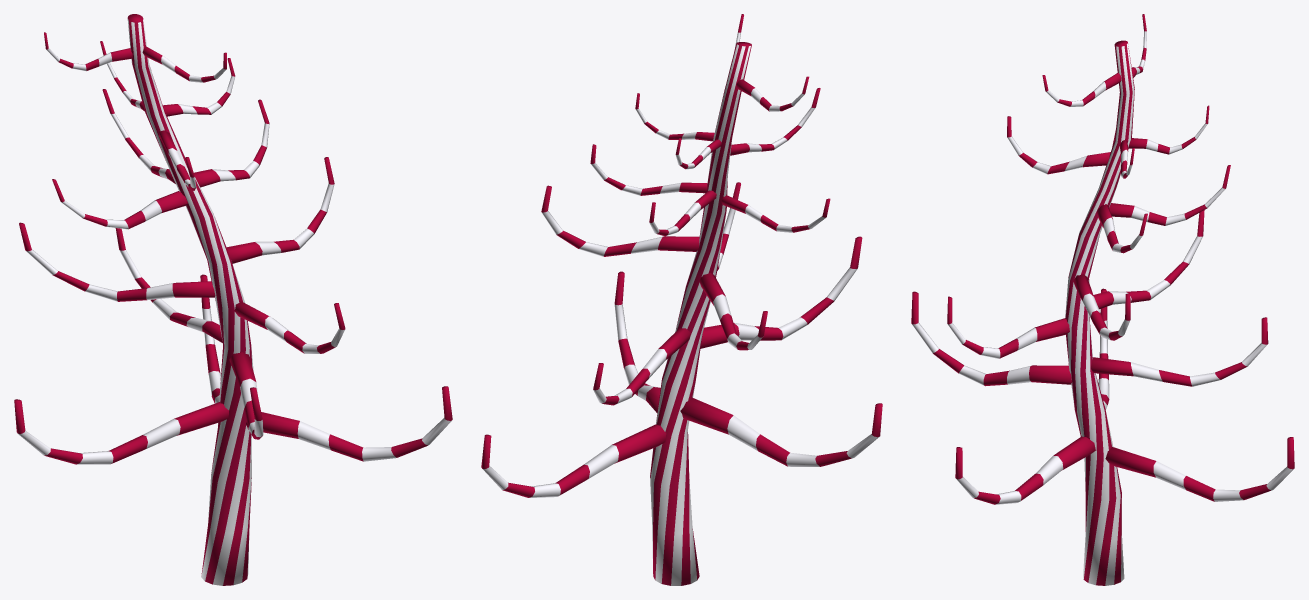
Rendered from cw_tree_4.fbx.
3 renders of one model, left to right at view 1: azimuth 30°, elevation 25°; view 2: azimuth 150°, elevation 25°; view 3: azimuth 270°, elevation 25°, orthographic. The views are drawn at different scales.
Visible parts, largest first — view 1: cw_t_4; view 2: cw_t_4; view 3: cw_t_4.
Boxes of the visible parts, <box> form: cw_t_4: <box>14,14,452,585</box>; cw_t_4: <box>481,14,882,585</box>; cw_t_4: <box>911,14,1294,585</box>.
Size of the model in its own units: 122 by 187 by 130.
